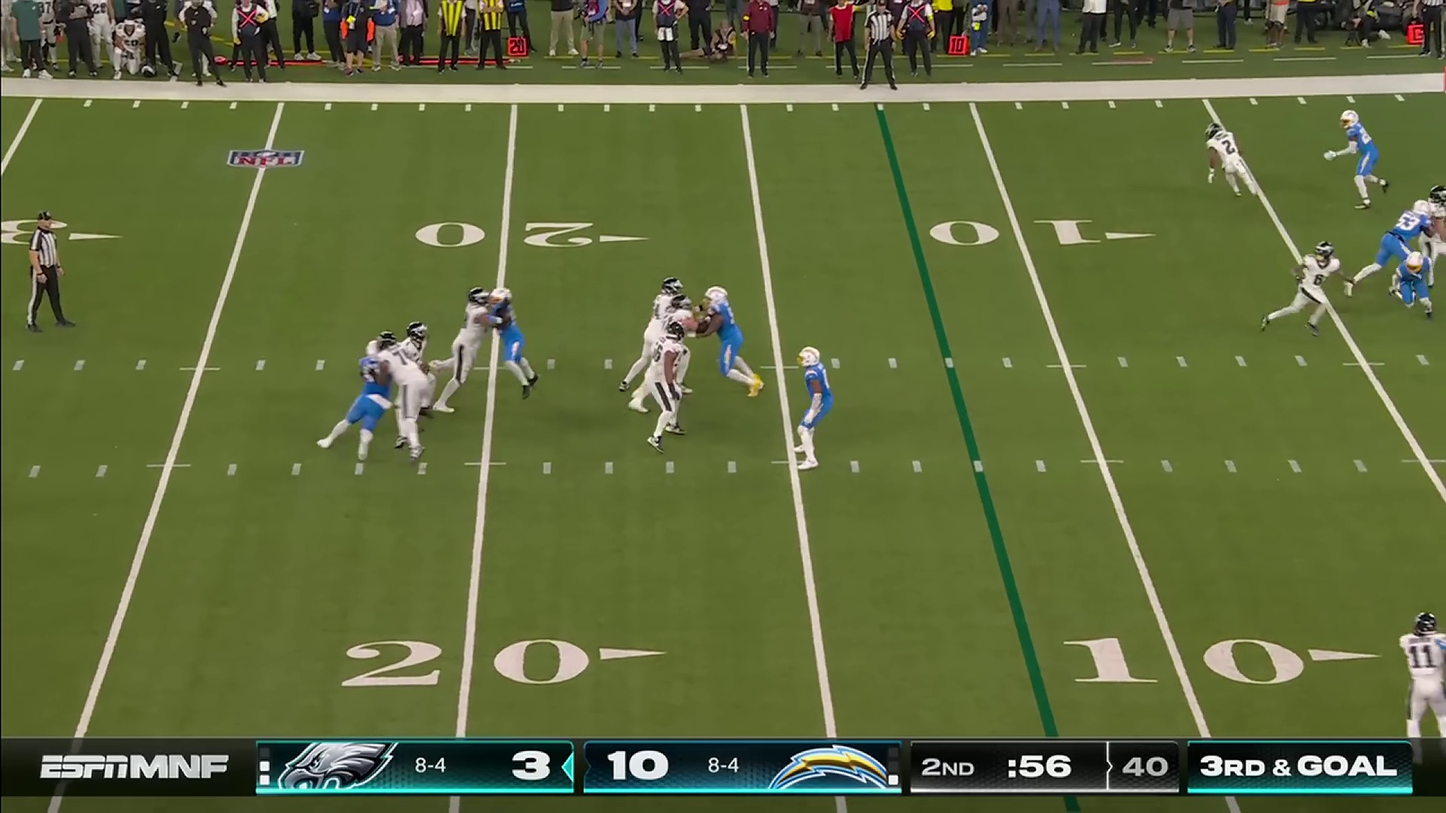ball: (415, 356, 431, 381)
player: (1268, 244, 1344, 336), (381, 336, 430, 463), (705, 293, 762, 397), (338, 341, 388, 459), (1402, 614, 1446, 745), (793, 342, 836, 469), (442, 289, 486, 405), (1332, 108, 1386, 201), (651, 327, 690, 453), (493, 291, 534, 390), (660, 298, 696, 401), (1197, 123, 1251, 187), (646, 272, 676, 370), (1393, 248, 1434, 318), (1384, 201, 1423, 270), (1419, 189, 1446, 259), (411, 324, 434, 365)
